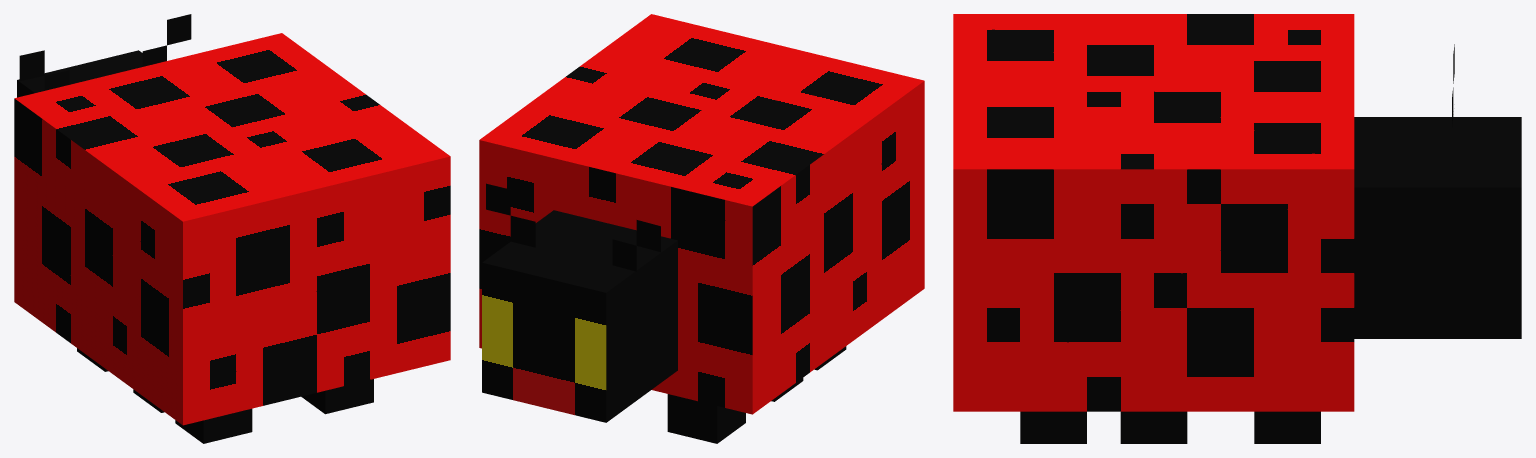
Rendered from test game jam 2023.gltf.
3 renders of one model, left to right at view 1: azimuth 30°, elevation 25°; view 2: azimuth 150°, elevation 25°; view 3: azimuth 270°, elevation 25°, orthographic. The views are drawn at different scales.
Parts seen in each view (by area): view 1: cube (×6); view 2: cube (×5); view 3: cube (×5).
Boxes of the visible parts, box(x1,y1,x2,y2) form: cube (×6): box(14, 14, 450, 443); cube (×5): box(479, 14, 924, 443); cube (×5): box(953, 14, 1521, 443).
Bounding box in the file's own units: 0.6875 × 0.625 × 1.06.
9 materials, 9 textured.
